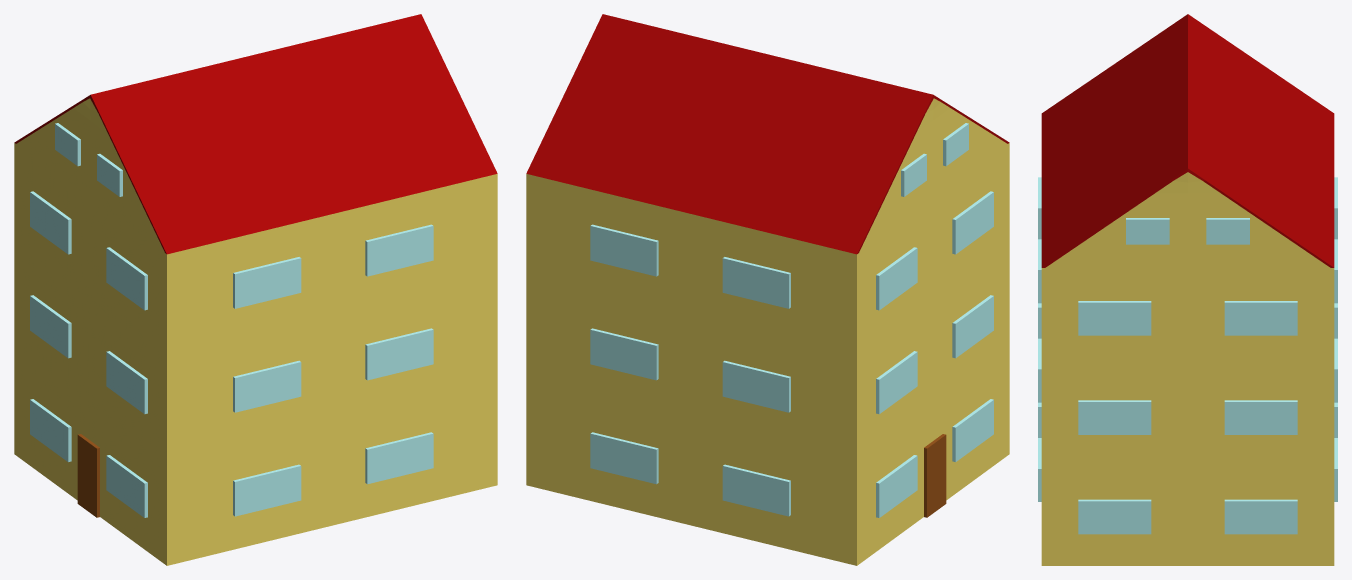
File: church_house.fbx
3 views of the same model, side by side, from view 1: azimuth 30°, elevation 25°; view 2: azimuth 150°, elevation 25°; view 3: azimuth 270°, elevation 25° (orthographic). The views are drawn at different scales.
Parts seen in each view (by area): view 1: House; view 2: House; view 3: House.
Boxes of the visible parts, left/top/right/bottom form: House: left=14, top=14, right=497, bottom=565; House: left=526, top=14, right=1009, bottom=565; House: left=1038, top=14, right=1337, bottom=565.
Bounding box in the file's own units: 1530 × 1800 × 1230.
